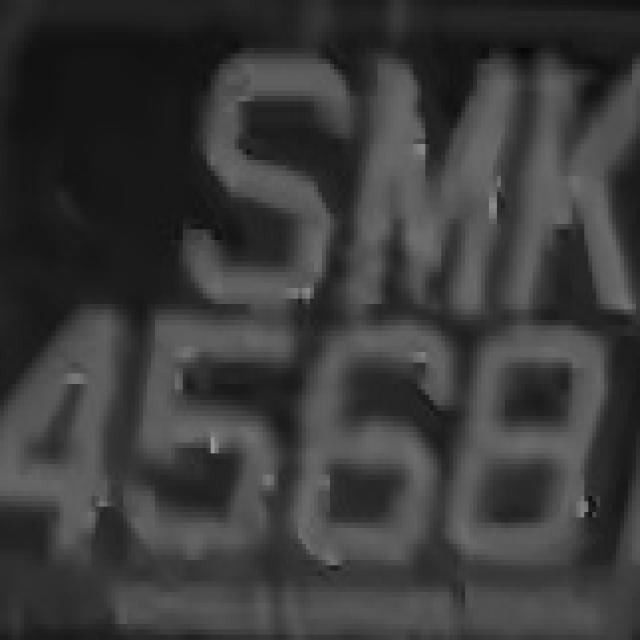4: (12, 293, 119, 571)
5: (116, 272, 274, 576)
6: (298, 277, 437, 576)
8: (441, 283, 608, 592)
K: (513, 37, 640, 315)
M: (342, 48, 513, 325)
S: (175, 32, 346, 320)
